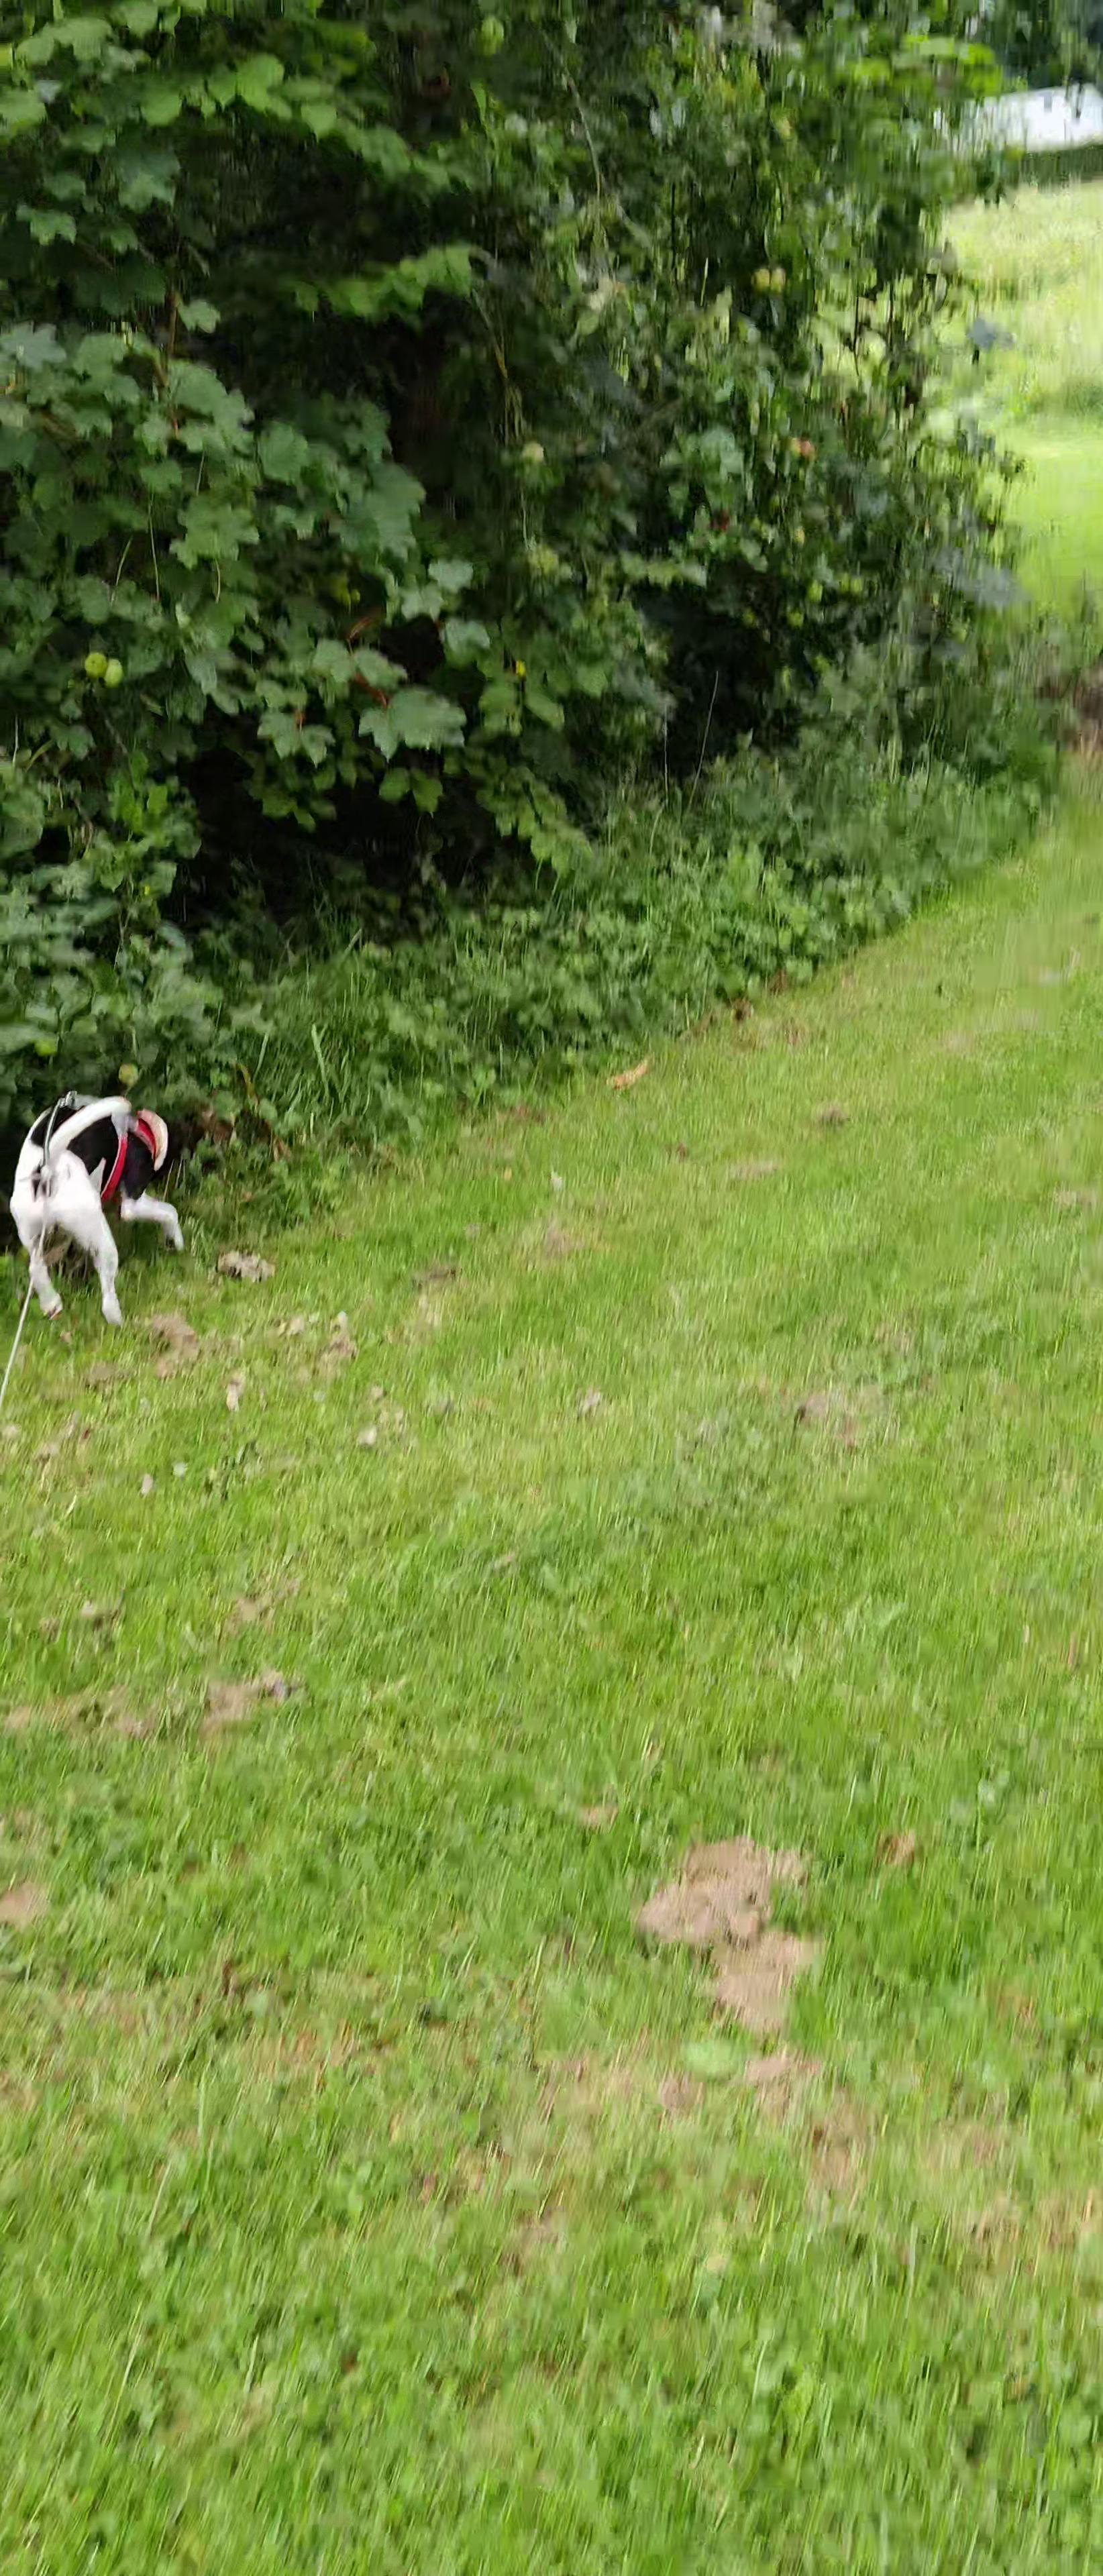Dog: (0, 1071, 215, 1332)
